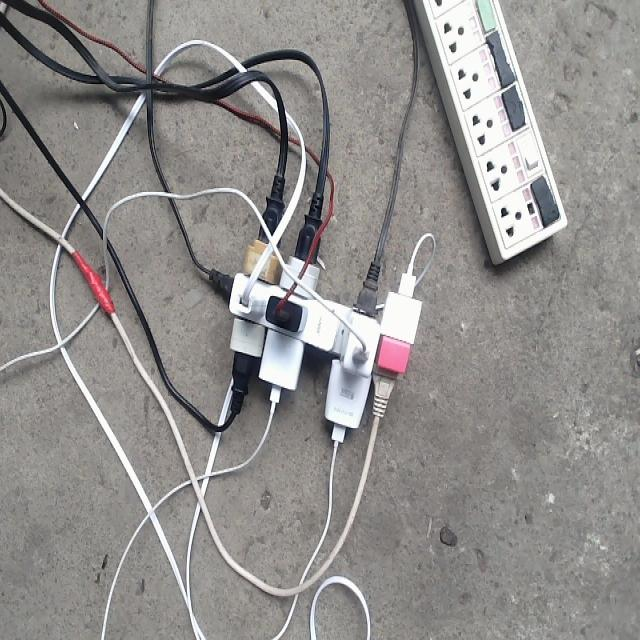-: (195, 175, 422, 448)
